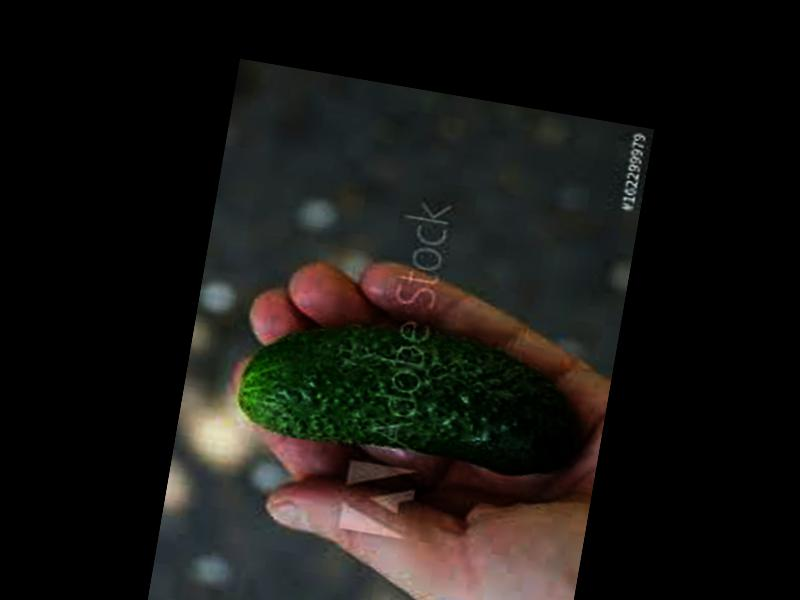Cucumber: (235, 298, 590, 484)
